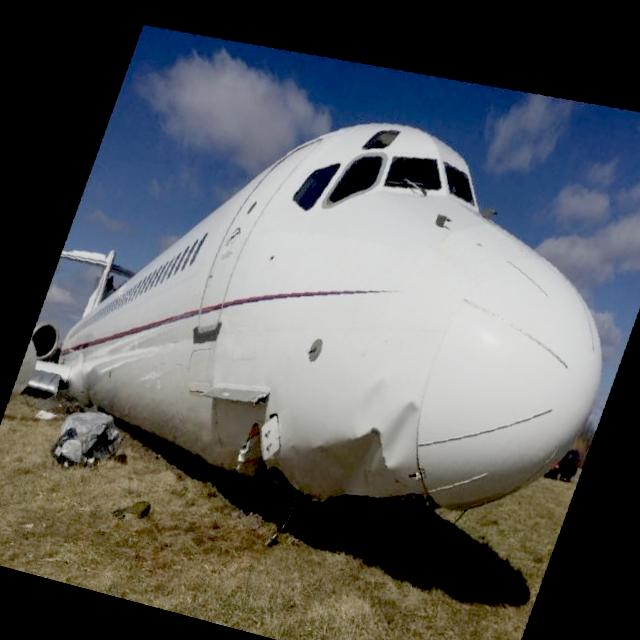dent: (372, 390, 426, 473), (352, 374, 388, 438)
